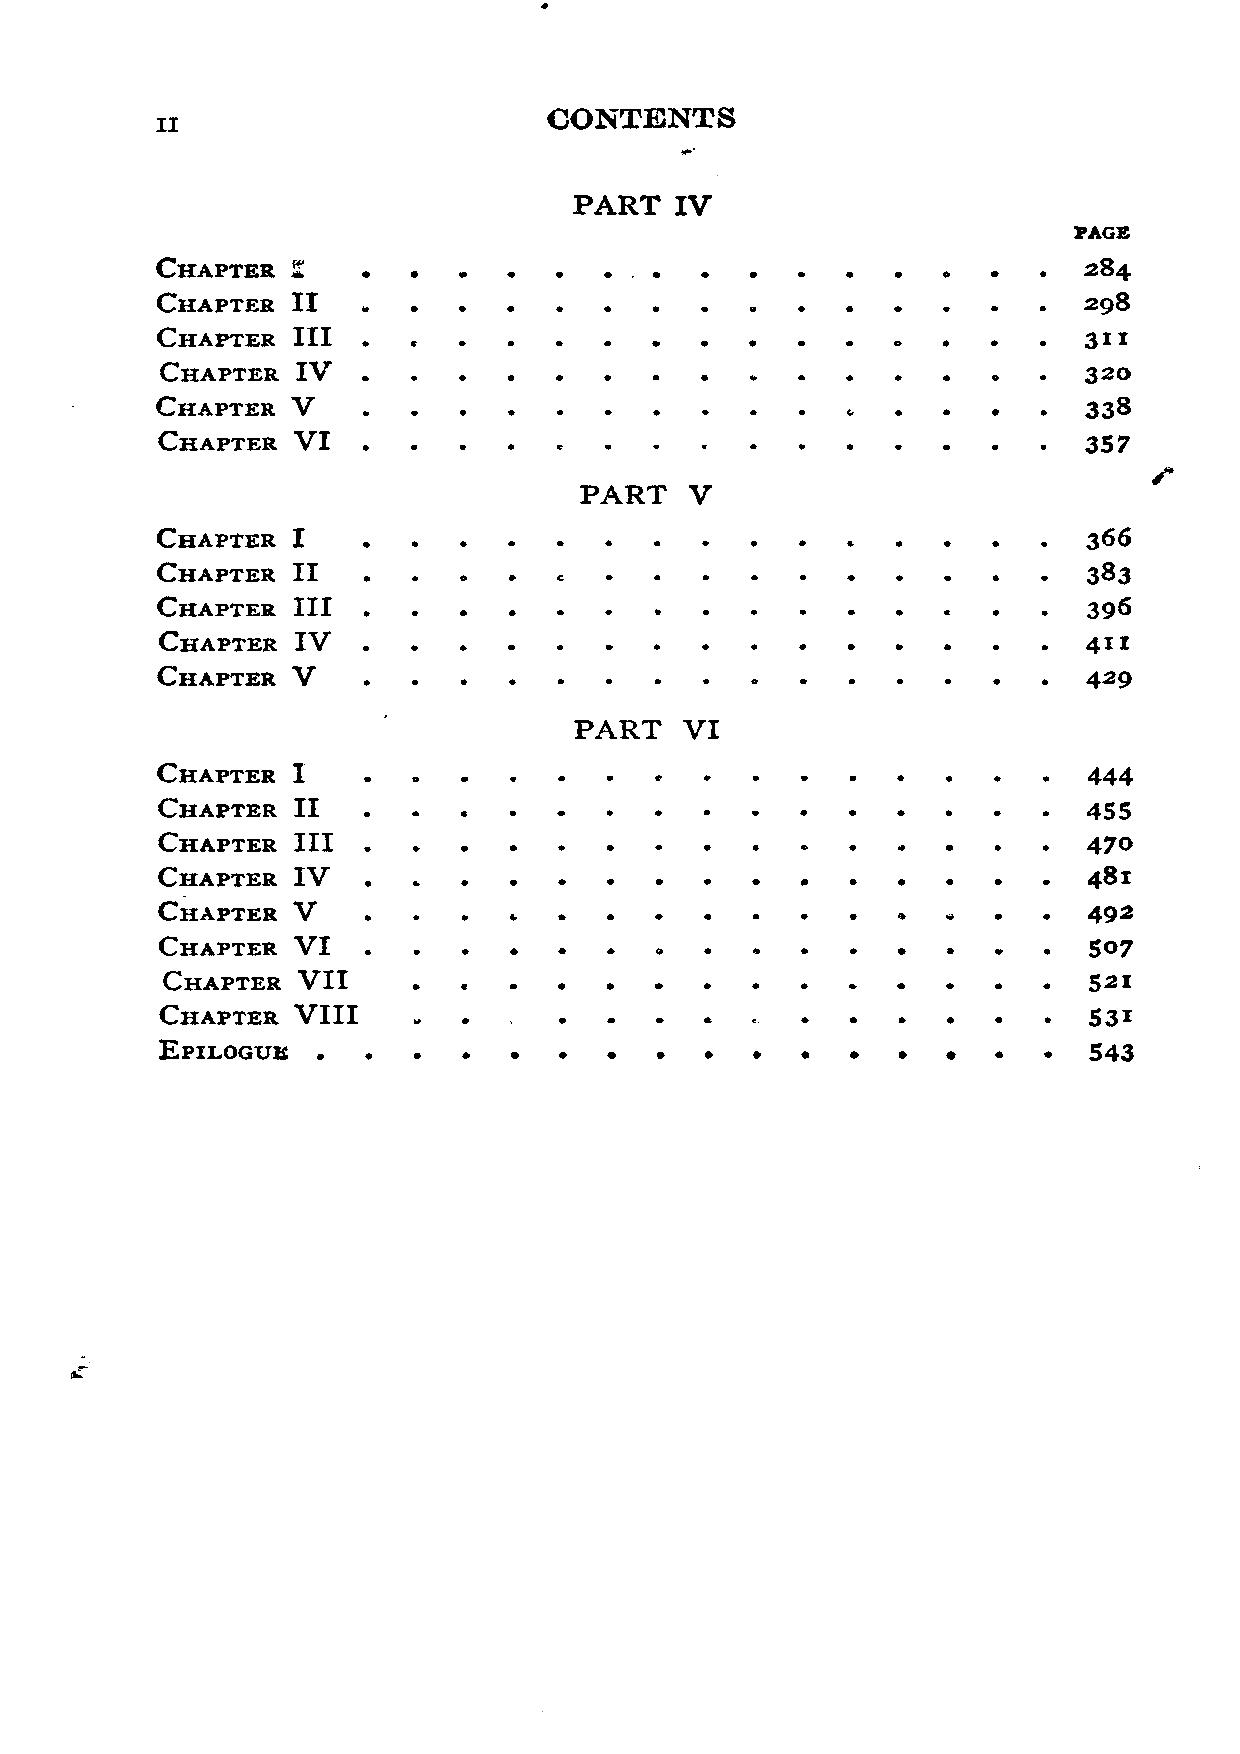TOC_chapter: (565, 178, 717, 224), (156, 659, 318, 697), (156, 1000, 362, 1029), (568, 713, 733, 749), (153, 423, 335, 455), (160, 965, 353, 994), (154, 825, 335, 856), (148, 247, 309, 280), (153, 519, 306, 554), (154, 894, 319, 926), (156, 930, 331, 960), (157, 356, 331, 385), (152, 560, 326, 589), (154, 285, 321, 315), (153, 319, 333, 348), (154, 592, 333, 620), (153, 860, 331, 888), (153, 1036, 302, 1070), (152, 389, 319, 419), (152, 756, 305, 786), (573, 476, 722, 507), (157, 628, 335, 654), (153, 794, 323, 820)
TOC_pagenumber: (1083, 663, 1142, 701), (1082, 760, 1138, 793), (1082, 389, 1137, 423), (1080, 250, 1137, 282), (1082, 828, 1137, 858), (1080, 962, 1135, 992), (1083, 862, 1139, 890), (1084, 560, 1138, 589), (1083, 1000, 1138, 1028), (1084, 933, 1138, 961), (1084, 629, 1137, 658), (1086, 895, 1137, 923), (1087, 1036, 1138, 1064), (1080, 326, 1133, 353), (1086, 518, 1133, 548), (1083, 287, 1133, 314), (1084, 427, 1129, 456), (1080, 360, 1134, 384), (1082, 798, 1134, 823), (1088, 596, 1134, 620)
chapter: (537, 93, 735, 141)
